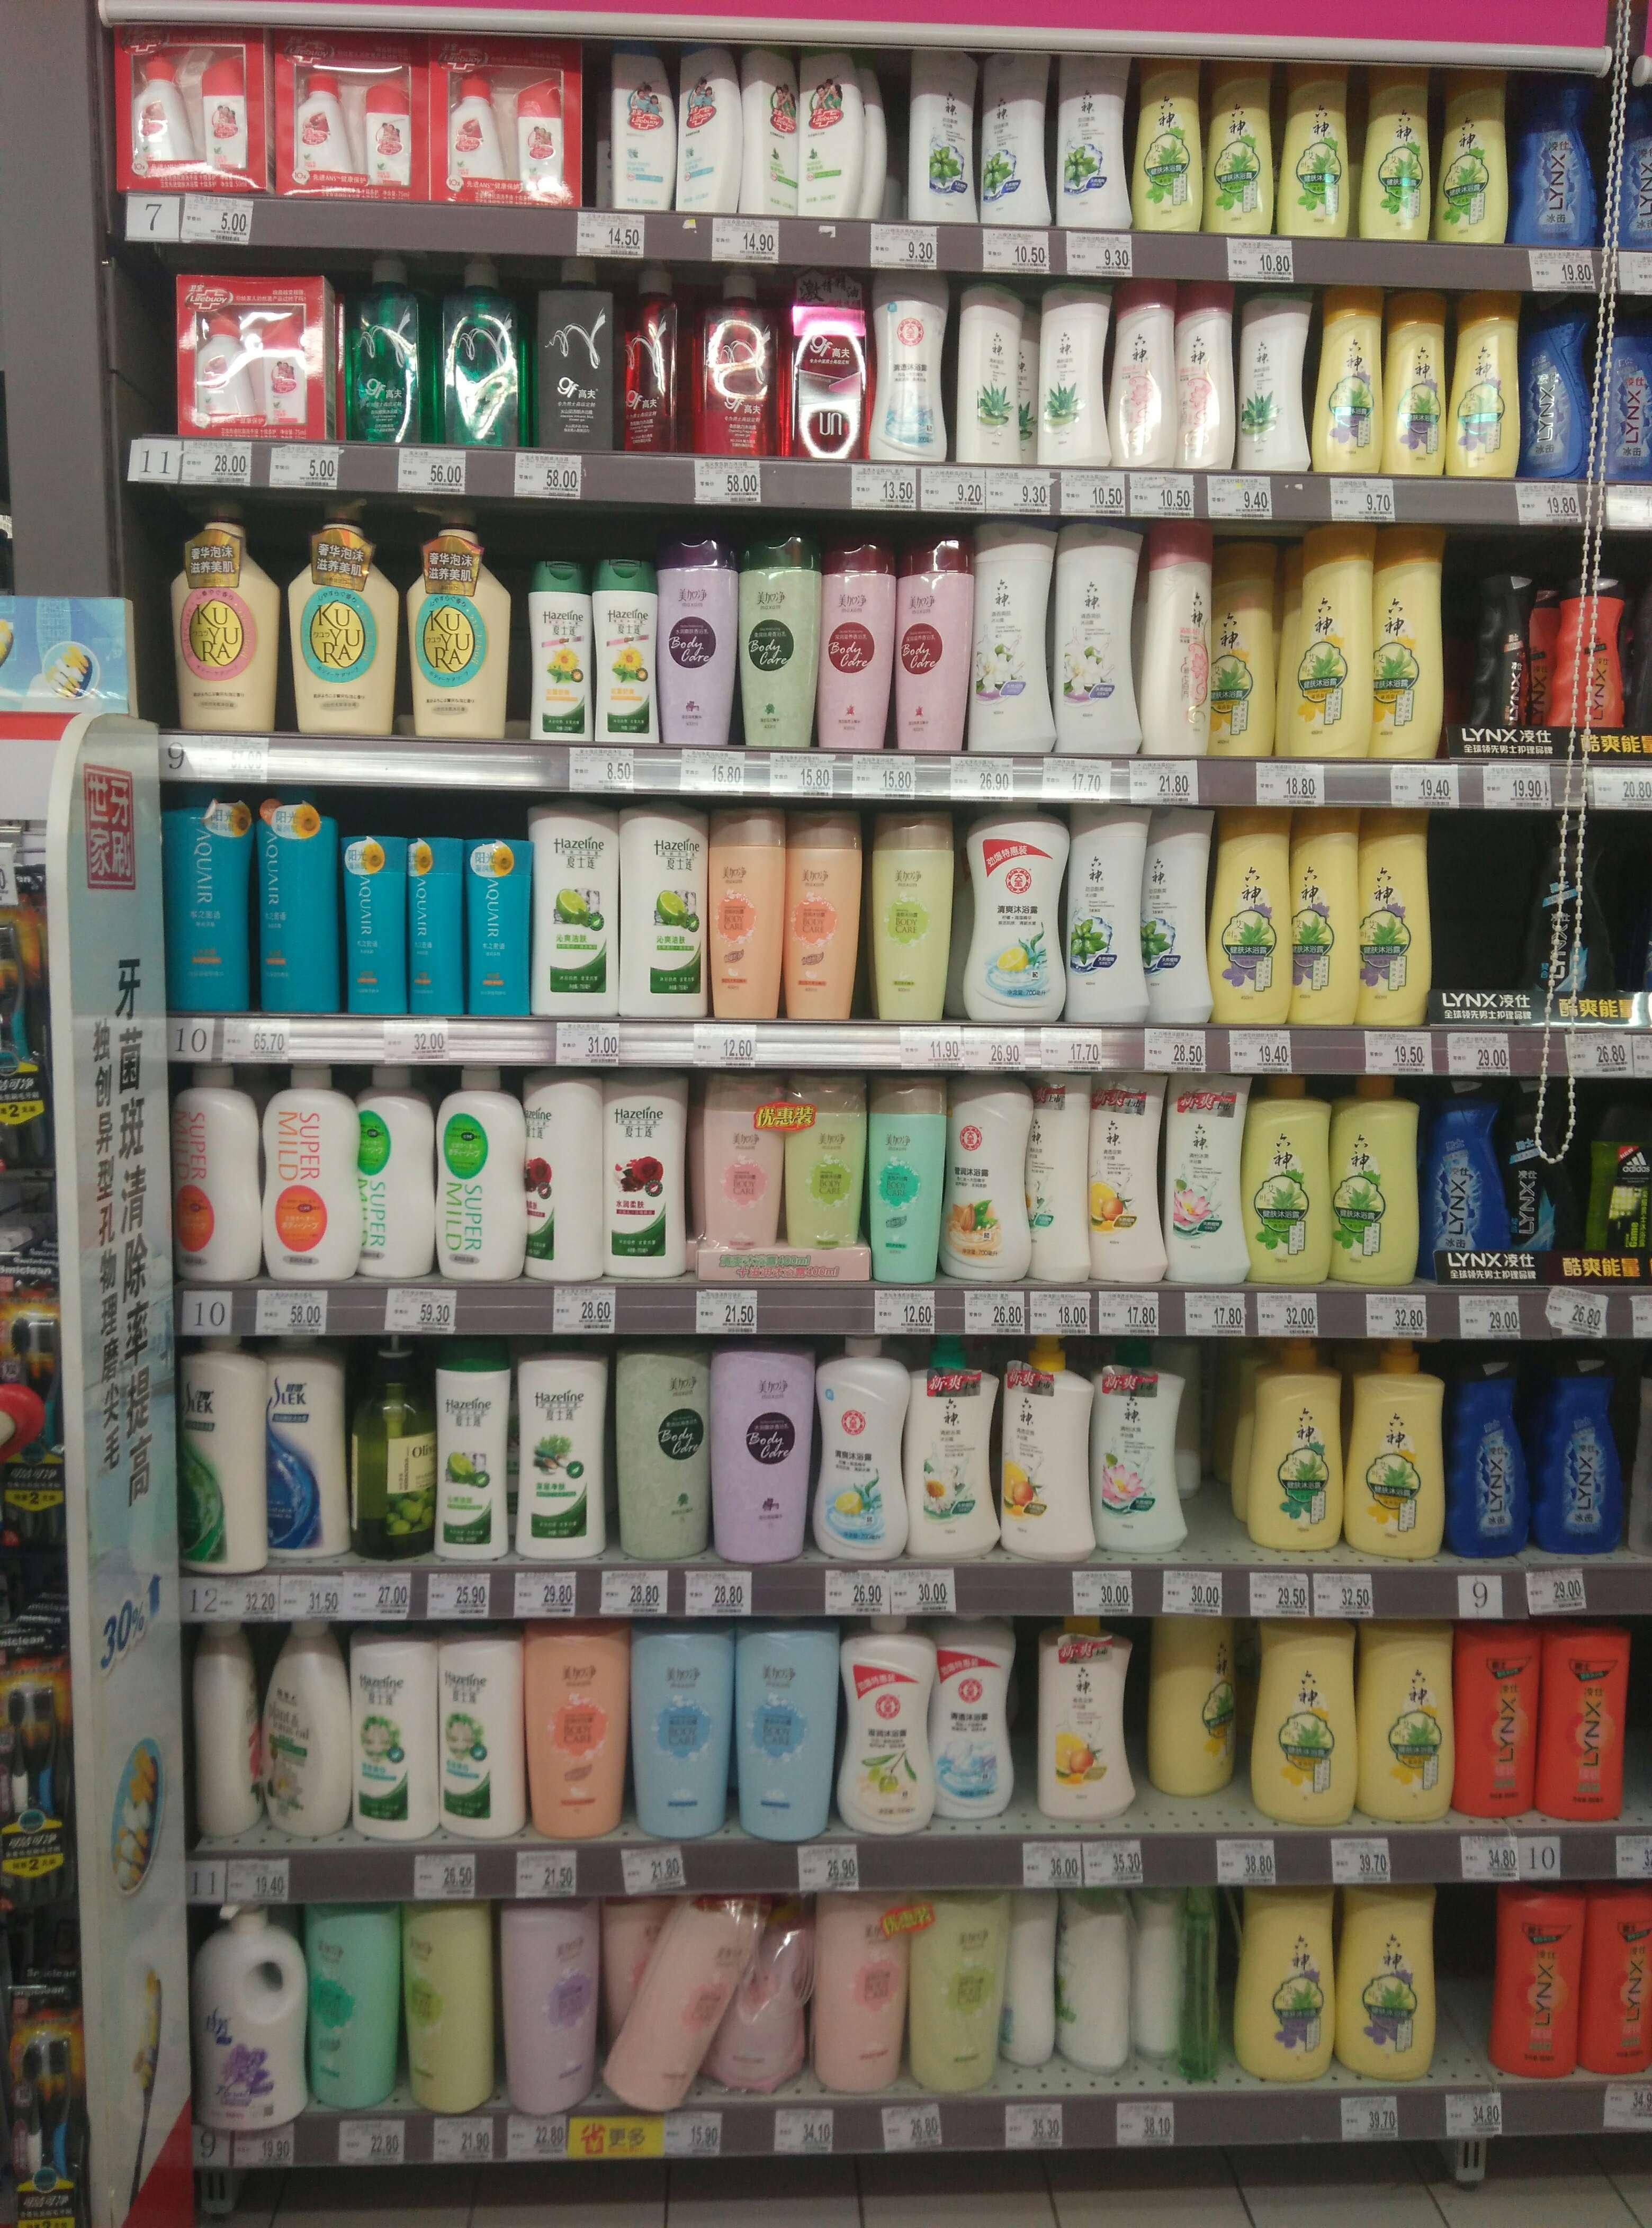misalignment: (607, 1898, 737, 2112), (1140, 1614, 1246, 1803), (186, 1621, 265, 1846), (1135, 529, 1209, 755), (1209, 533, 1282, 758), (271, 1631, 342, 1841), (675, 56, 739, 210), (741, 38, 795, 219), (803, 54, 862, 215), (1173, 1891, 1220, 2081)
